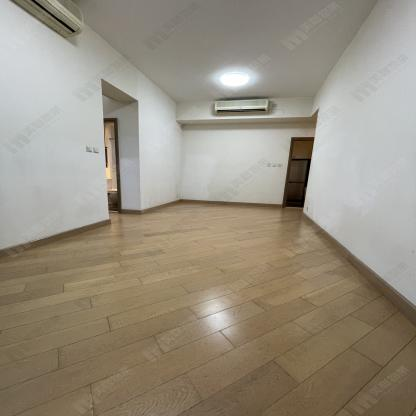AC: (11, 0, 83, 39), (214, 99, 269, 115)
